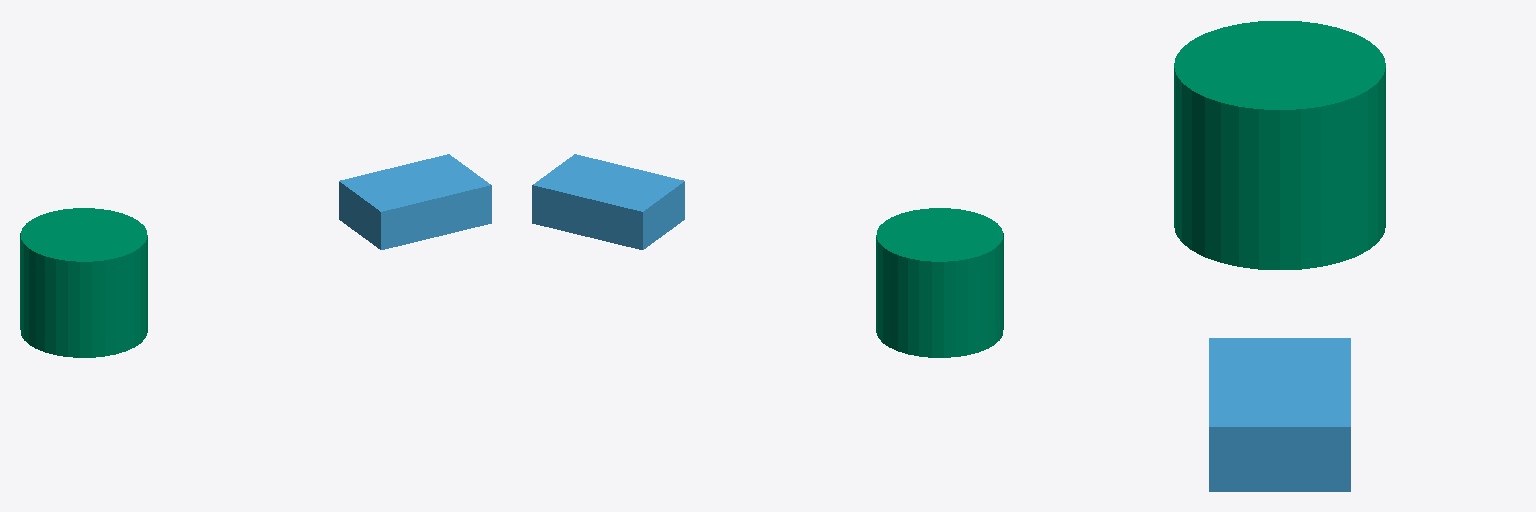
The robot description file, URDF, robot "passbutter":
<?xml version="1.0"?>
<robot name="passbutter">
  <link name="base_link"/>

  <link name="imu">
    <visual>
      <origin xyz="0 0 0" />
      <geometry>
        <box size="0.06 0.04 0.02" />
      </geometry>
      <material name="orange" />
    </visual>
  </link>

  <link name="laser">
    <visual>
      <origin xyz="0 0 0" />
      <geometry>
        <cylinder length="0.05" radius="0.03" />
      </geometry>
      <material name="gray" />
    </visual>
  </link>

  <joint name="laser_link_joint" type="fixed">
    <parent link="base_link" />
    <child link="laser" />
    <origin xyz="0.0 0 0.15" />
  </joint>

  <joint name="imu_link_joint" type="fixed">
    <parent link="laser" />
    <child link="imu" />
    <origin xyz="0.18 0.0 0.0" />
  </joint>
</robot>

--- Render facts (derived) ---
The picture shows the robot from 3 angles, left to right: view 1: azimuth 30°, elevation 25°; view 2: azimuth 150°, elevation 25°; view 3: azimuth 270°, elevation 25°; orthographic projection.
Robot: passbutter — 3 links, 2 joints (2 fixed); root link base_link; default pose: all joints at 0.
Visible links, largest first — view 1: laser, imu; view 2: laser, imu; view 3: laser, imu.
Link boxes in pixels (x1,y1,x2,y2): laser: (20, 208, 147, 357); imu: (339, 154, 491, 249); laser: (876, 208, 1003, 357); imu: (532, 154, 684, 249); laser: (1174, 21, 1385, 269); imu: (1209, 338, 1350, 491).
Size in the robot's own frame: 0.24 by 0.06 by 0.05 metres.
Geometry: primitives only (box / cylinder / sphere), no mesh files.